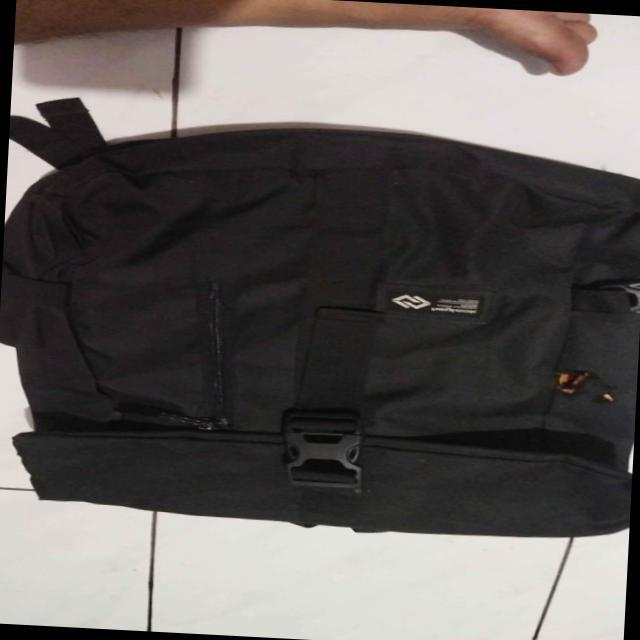bag: (3, 129, 640, 541)
